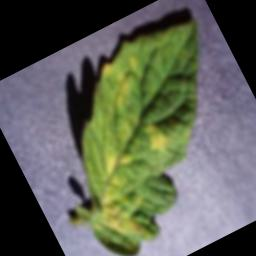Leaf_Mold: (75, 143, 165, 246), (91, 46, 155, 115), (137, 113, 177, 157)
